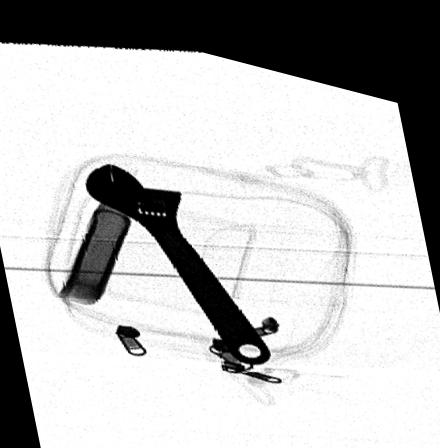Wrench: (82, 154, 276, 354)
